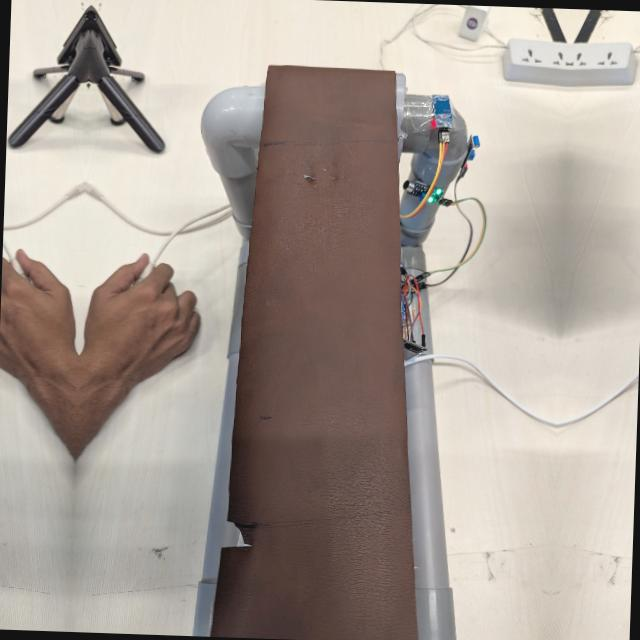belt_crack: (276, 148, 359, 198)
belt_tear: (206, 493, 260, 563)
